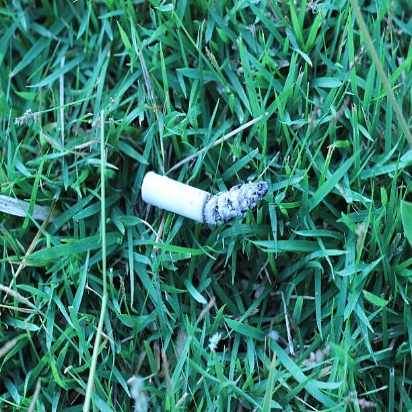cigarette: (131, 165, 268, 228)
